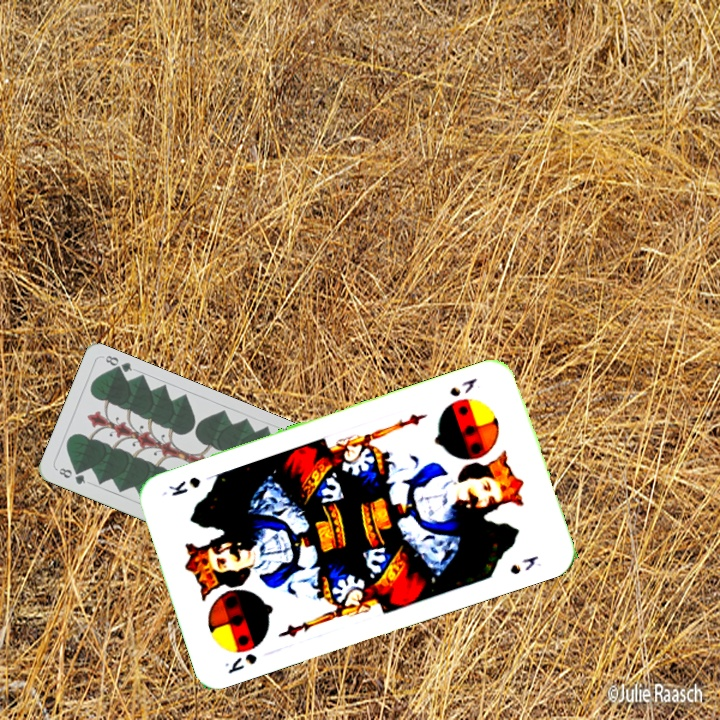G8: (55, 464, 88, 487)
SK: (220, 649, 260, 677), (445, 373, 480, 400)
